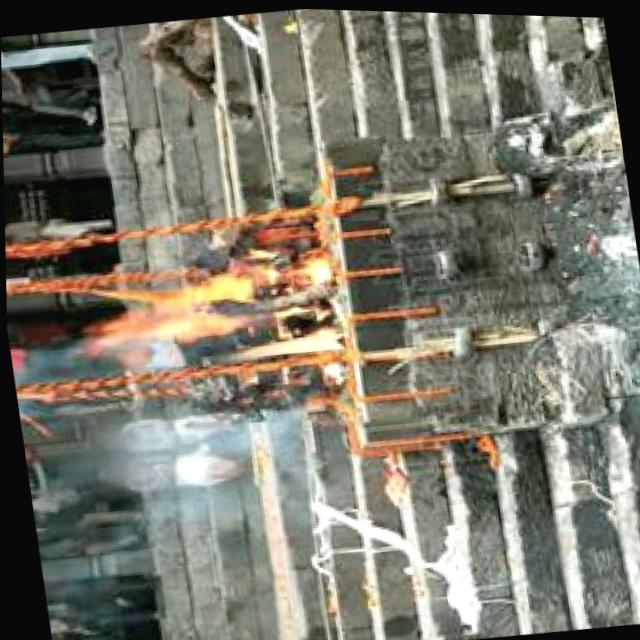helmet: (74, 254, 350, 398)
